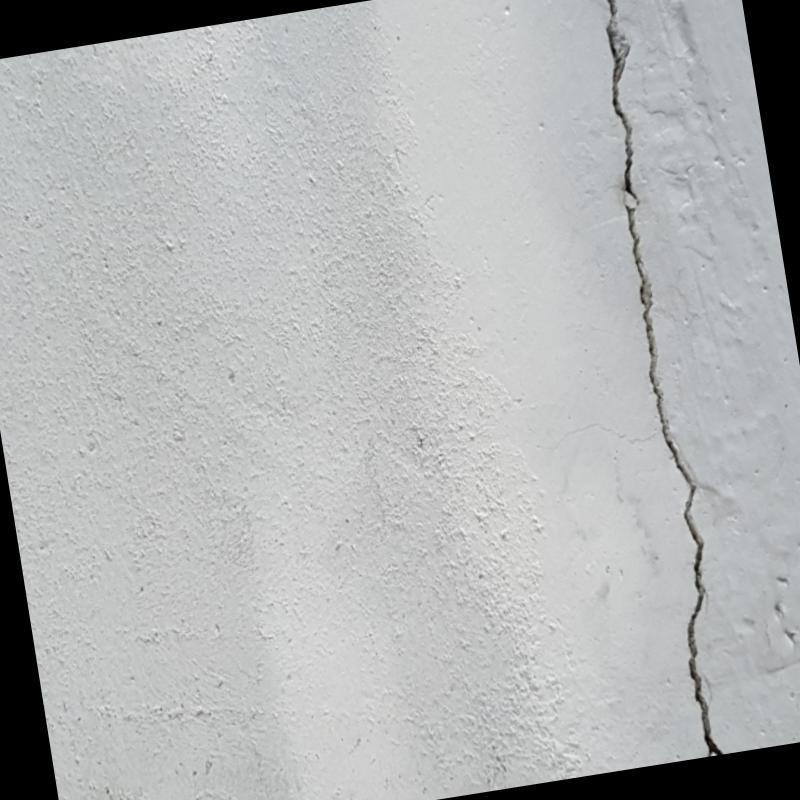pothole: (600, 0, 721, 754)
